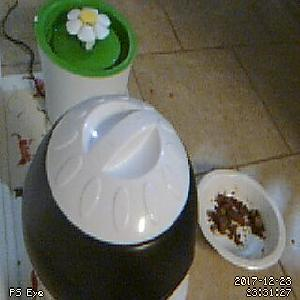fountain: (31, 1, 136, 79)
